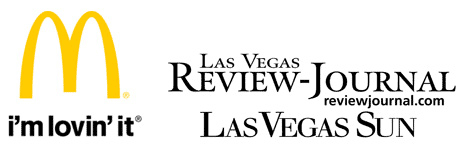mcdonalds: (17, 10, 121, 96)
